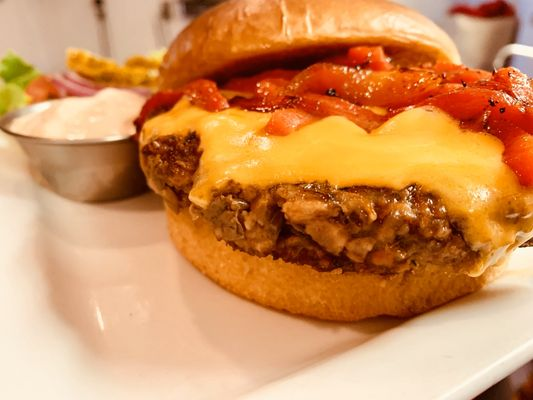pizza: (446, 0, 519, 72), (492, 42, 533, 87)
soup: (133, 0, 533, 323)
sushi: (1, 89, 151, 202)
